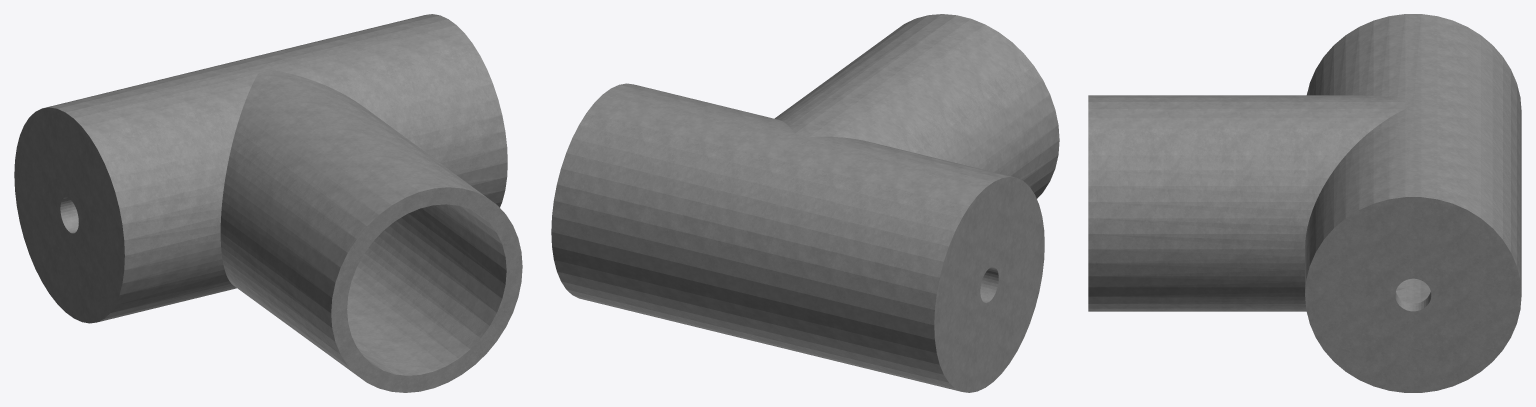
File: Motor_FL.dae
3 renders of one model, left to right at view 1: azimuth 30°, elevation 25°; view 2: azimuth 150°, elevation 25°; view 3: azimuth 270°, elevation 25°, orthographic. The views are drawn at different scales.
Parts seen in each view (by area): view 1: Motor_FL_visual; view 2: Motor_FL_visual; view 3: Motor_FL_visual.
Boxes of the visible parts, x1,y1,x2,y2 form: Motor_FL_visual: (14, 14, 522, 392); Motor_FL_visual: (551, 14, 1059, 392); Motor_FL_visual: (1088, 14, 1521, 392).
Bounding box in the file's own units: 6 × 6 × 3.
1 material, 1 textured.
